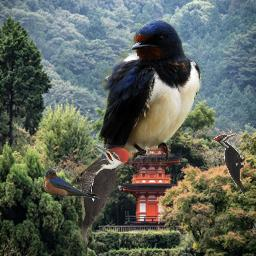Swallow: (70, 18, 202, 204), (43, 169, 104, 200)
Woodpecker: (68, 144, 132, 248), (212, 134, 245, 198)
